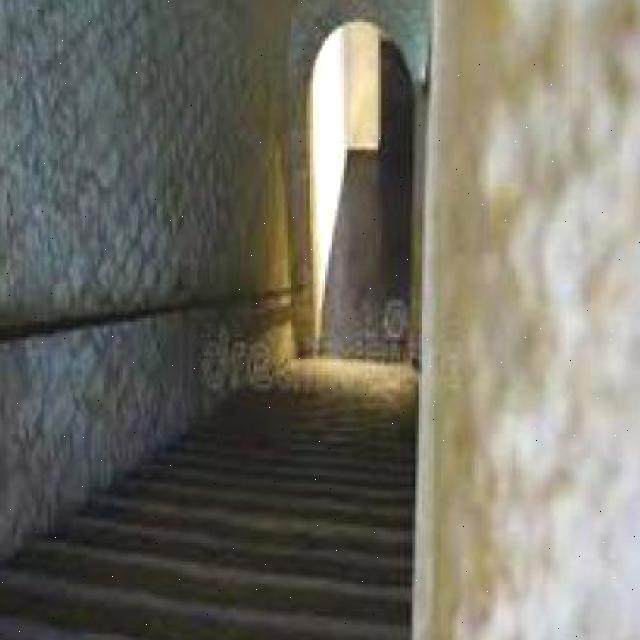stair: (19, 483, 385, 640)
